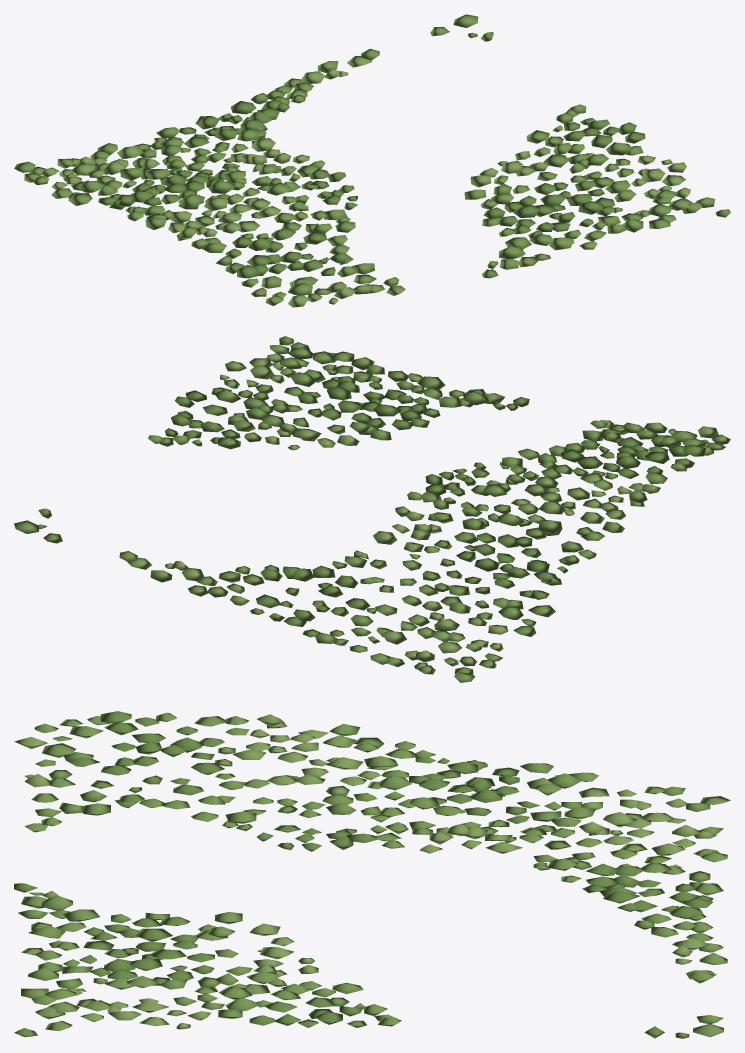
Rendered from canopy-1--5-3.glb.
3 renders of one model, top to bottom at view 1: azimuth 30°, elevation 25°; view 2: azimuth 150°, elevation 25°; view 3: azimuth 270°, elevation 25°, orthographic. The views are drawn at different scales.
Bounding box in the file's own units: 520 × 77.5 × 518.
1 material, 1 textured.
